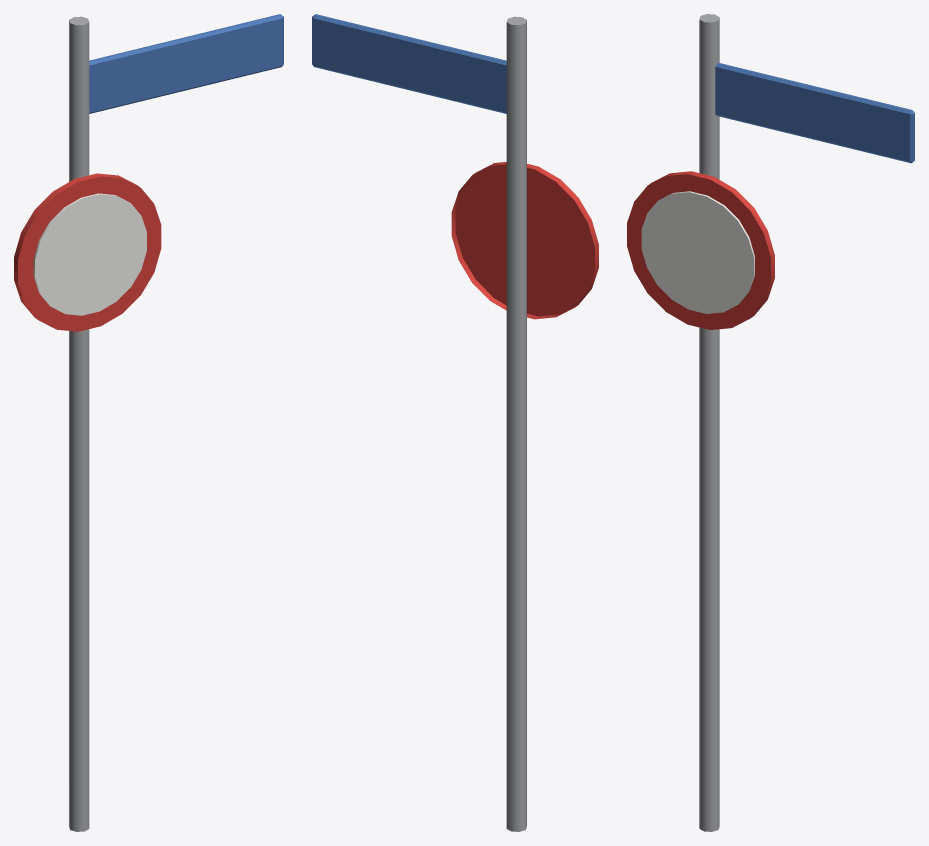
File: street-sign.glb
The picture shows the model from 3 angles, left to right: view 1: azimuth 30°, elevation 25°; view 2: azimuth 150°, elevation 25°; view 3: azimuth 330°, elevation 25°; orthographic projection.
Parts seen in each view (by area): view 1: street-sign, street-sign-disc, street-sign-plate, street-sign-ring; view 2: street-sign, street-sign-ring, street-sign-plate; view 3: street-sign, street-sign-plate, street-sign-disc, street-sign-ring.
Part boxes in pixels (bbox=[...]): street-sign: bbox=[69, 16, 89, 831]; street-sign-disc: bbox=[33, 193, 146, 315]; street-sign-plate: bbox=[89, 14, 283, 113]; street-sign-ring: bbox=[14, 173, 161, 331]; street-sign: bbox=[506, 16, 526, 831]; street-sign-ring: bbox=[451, 162, 598, 319]; street-sign-plate: bbox=[312, 14, 506, 113]; street-sign: bbox=[699, 14, 719, 831]; street-sign-plate: bbox=[715, 63, 914, 163]; street-sign-disc: bbox=[641, 191, 754, 313]; street-sign-ring: bbox=[627, 171, 774, 329].
Size of the model in its own units: 1.22 by 3.4 by 0.13.
